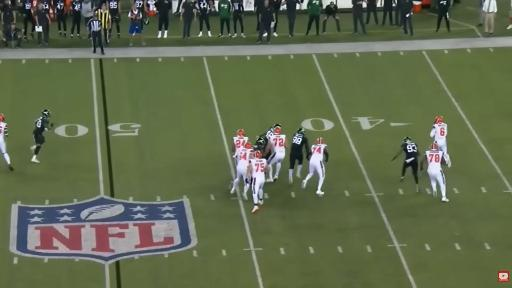Helmet: (254, 150, 262, 159), (42, 110, 50, 118), (435, 116, 443, 123), (143, 18, 150, 26), (431, 142, 438, 150), (256, 138, 265, 144), (274, 127, 281, 134), (245, 142, 252, 149), (237, 129, 244, 136), (297, 128, 305, 134), (316, 138, 324, 144), (404, 136, 411, 142), (272, 124, 281, 128), (0, 114, 4, 122)
Jersey: (425, 151, 443, 170), (291, 134, 308, 154), (430, 123, 447, 141), (250, 159, 266, 178), (402, 142, 417, 162), (237, 148, 252, 167), (310, 144, 326, 161), (33, 117, 49, 134), (269, 135, 285, 152), (233, 137, 247, 152), (253, 137, 265, 152), (231, 0, 244, 13), (197, 0, 209, 14), (108, 0, 119, 15), (22, 0, 33, 14), (54, 0, 65, 14), (0, 122, 8, 141), (40, 0, 51, 13), (72, 0, 82, 13), (134, 0, 145, 11), (265, 128, 274, 140)
Player: (421, 142, 448, 201), (392, 137, 419, 192), (302, 138, 328, 195), (266, 127, 289, 182), (246, 151, 266, 213), (231, 143, 252, 200), (289, 128, 310, 183), (31, 110, 53, 162), (430, 116, 451, 167), (0, 114, 13, 170), (259, 124, 281, 151), (232, 130, 248, 165), (108, 0, 120, 38), (253, 137, 265, 153)
